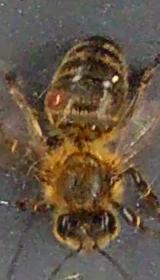varroa_mite: (42, 88, 64, 114)
